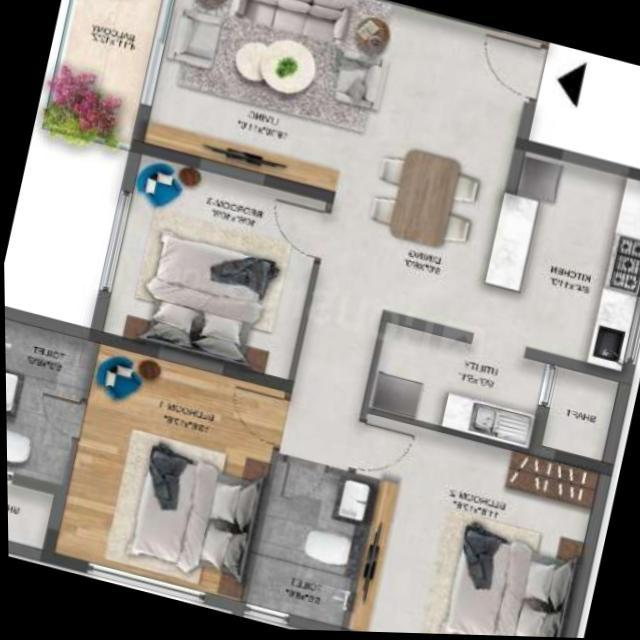Balcony-Sitout: (41, 0, 164, 153)
Bedroom: (87, 146, 329, 391)
Bedroom with Toilet: (241, 388, 613, 638), (4, 309, 291, 615)
Dining: (364, 140, 488, 261)
Enterance-Foyer: (424, 16, 594, 119)
Kitchen: (482, 138, 640, 378)
Living: (128, 0, 380, 202)
Toilet: (247, 455, 379, 630), (4, 321, 99, 490)
Utility: (358, 311, 560, 459)
